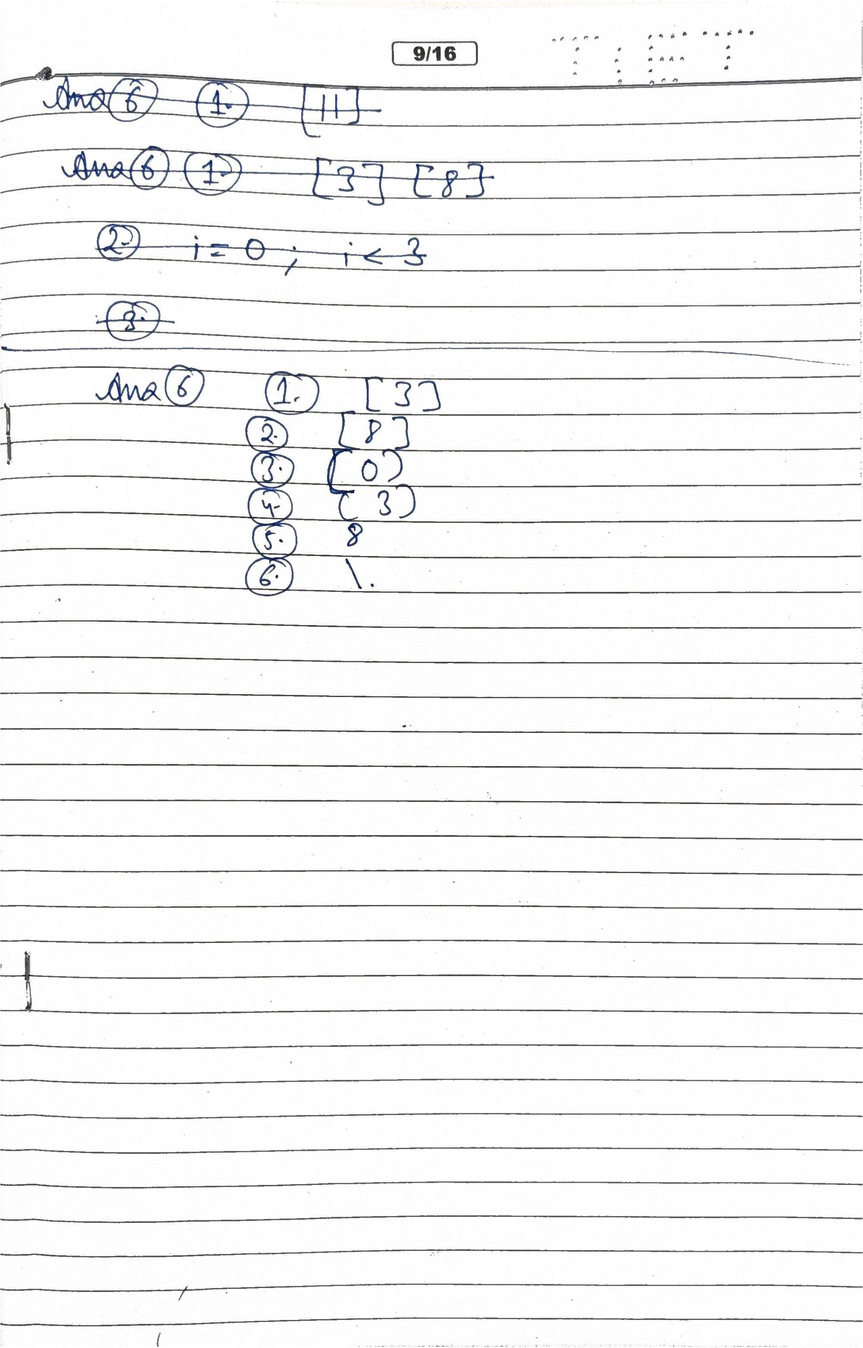cuttings: (58, 144, 499, 208), (37, 74, 383, 141), (94, 217, 430, 275), (94, 297, 168, 339)
